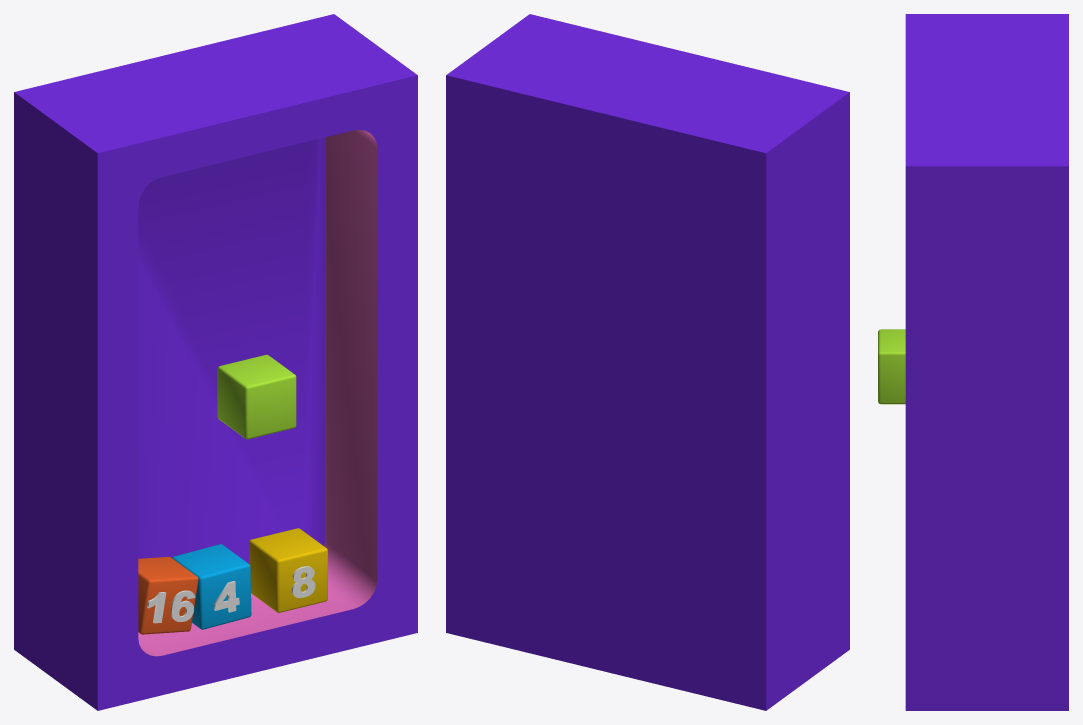
Rendered from 2048allscene.fbx.
3 renders of one model, left to right at view 1: azimuth 30°, elevation 25°; view 2: azimuth 150°, elevation 25°; view 3: azimuth 270°, elevation 25°, orthographic. The views are drawn at different scales.
Parts seen in each view (by area): view 1: Cube.001, Cube, Cube.004, Cube.003, Cube.005, Text.003; view 2: Cube.001; view 3: Cube.001, Cube.
Boxes of the visible parts, x1=… form: Cube.001: x1=14, y1=14, x2=417, y2=710; Cube: x1=217, y1=354, x2=296, y2=439; Cube.004: x1=249, y1=528, x2=327, y2=612; Cube.003: x1=172, y1=544, x2=251, y2=629; Cube.005: x1=138, y1=556, x2=198, y2=634; Text.003: x1=147, y1=590, x2=195, y2=623; Cube.001: x1=446, y1=14, x2=849, y2=710; Cube.001: x1=905, y1=14, x2=1068, y2=710; Cube: x1=878, y1=329, x2=905, y2=404.
Size of the model in its own units: 1068 by 1779 by 565.
